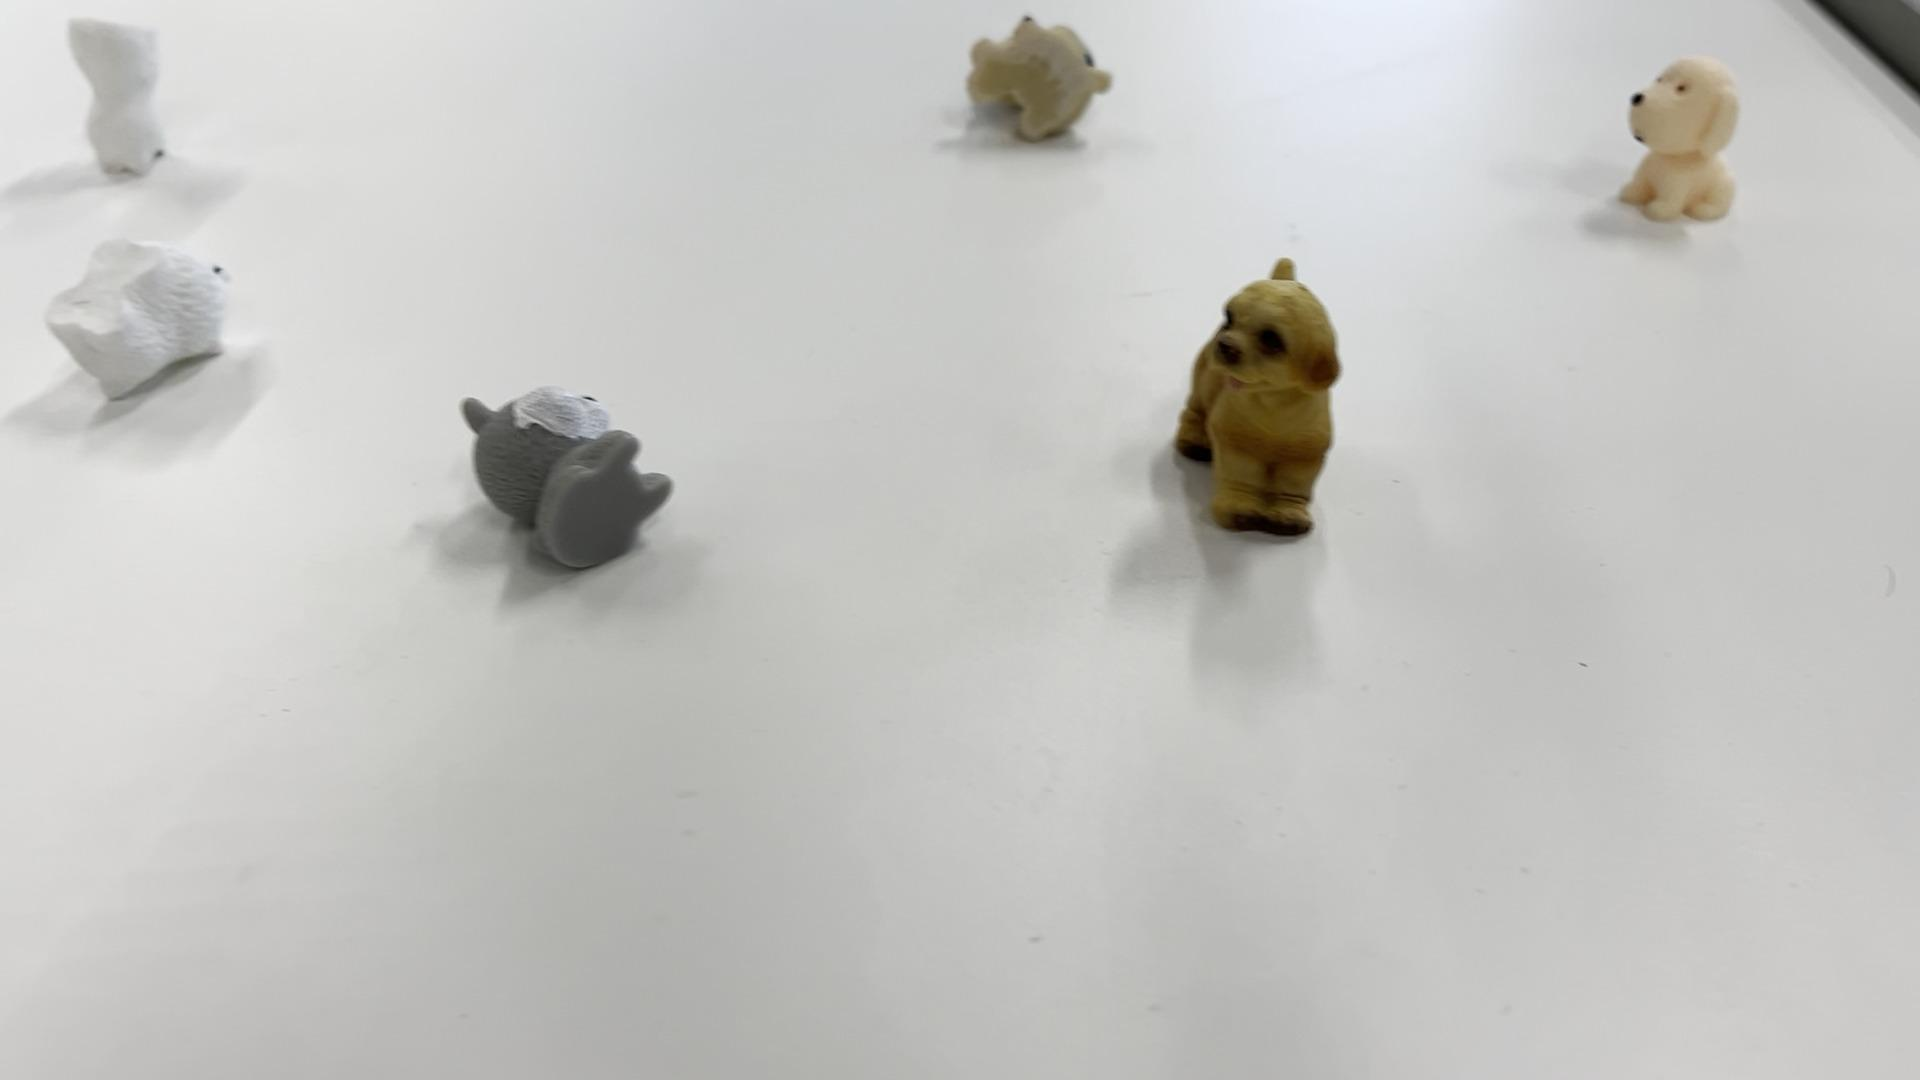pet: (1168, 243, 1367, 559), (458, 378, 676, 578), (54, 236, 249, 410), (955, 3, 1118, 162), (1614, 36, 1735, 244)
